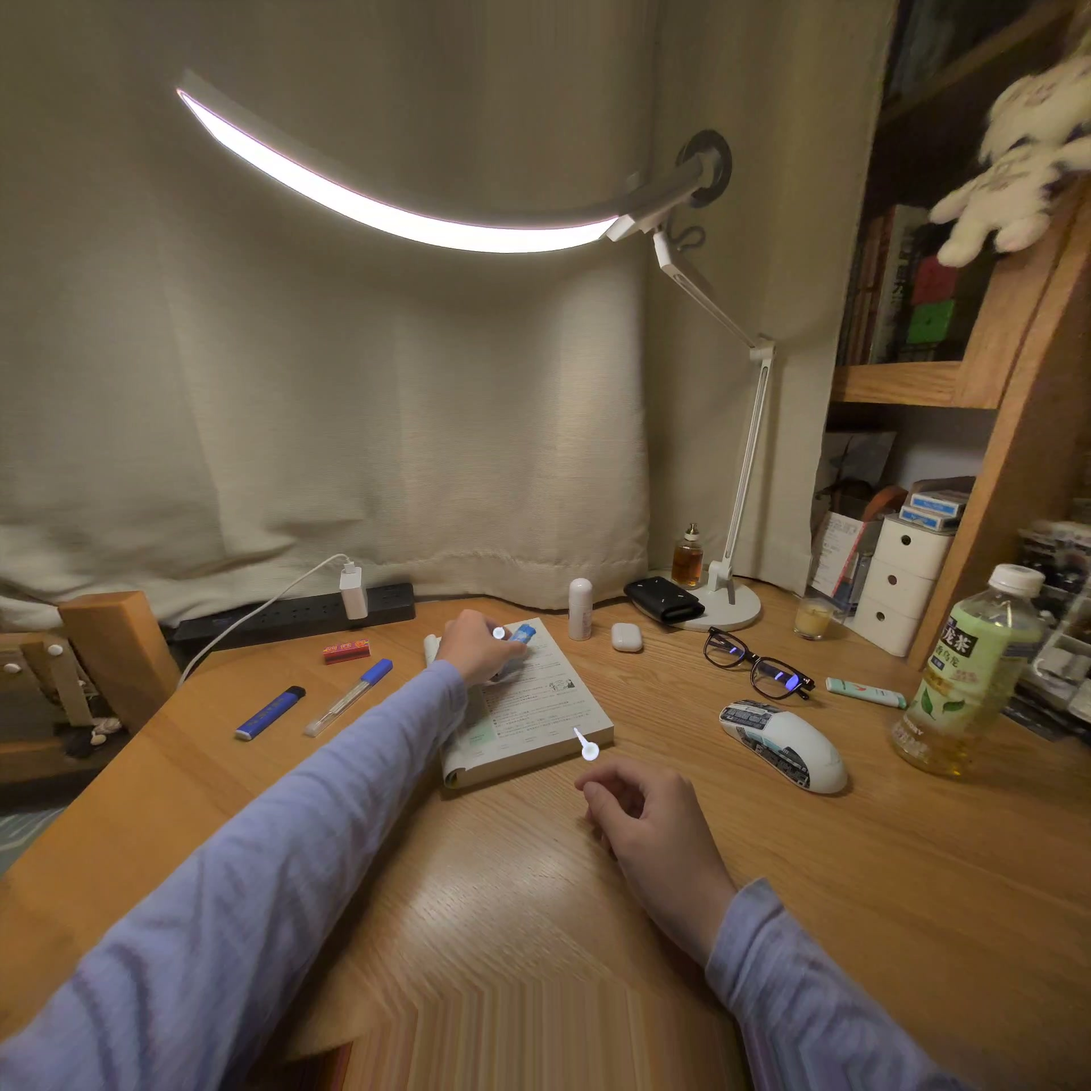lighter: (510, 624, 536, 644)
